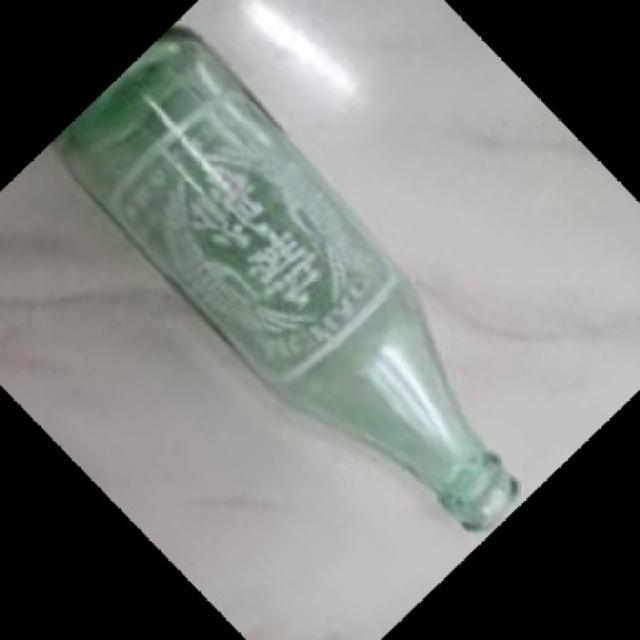Glass: (53, 26, 521, 532)
